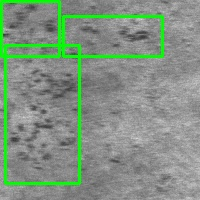rolled-in_scale: (5, 45, 79, 183), (63, 16, 162, 56), (1, 1, 59, 56)
